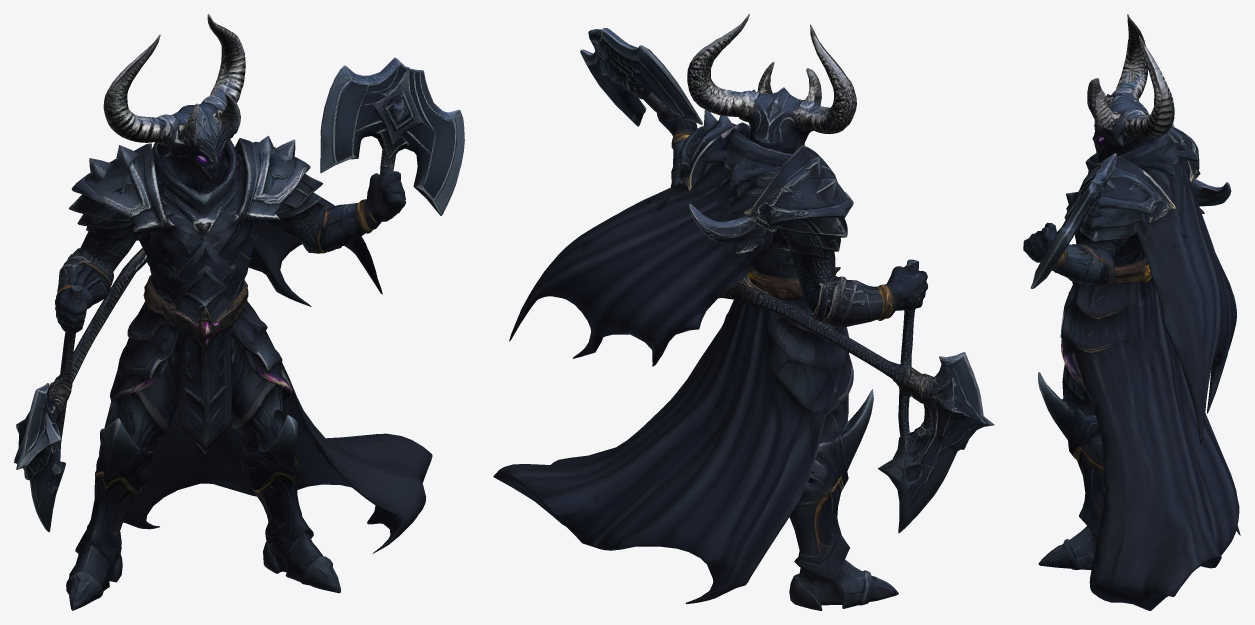
File: zarok.glb
3 views of the same model, side by side, from view 1: azimuth 30°, elevation 25°; view 2: azimuth 150°, elevation 25°; view 3: azimuth 270°, elevation 25° (orthographic). The views are drawn at different scales.
Size of the model in its own units: 1.65 by 1.91 by 0.757.
Materials: 1 (1 with a texture image).
